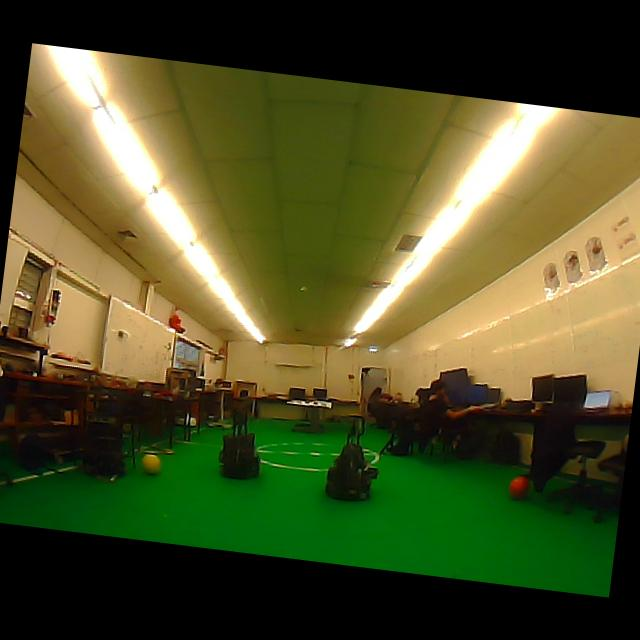ball: (508, 475, 529, 499), (142, 453, 159, 474)
robot: (324, 415, 378, 500), (218, 408, 260, 479), (83, 420, 125, 480)
